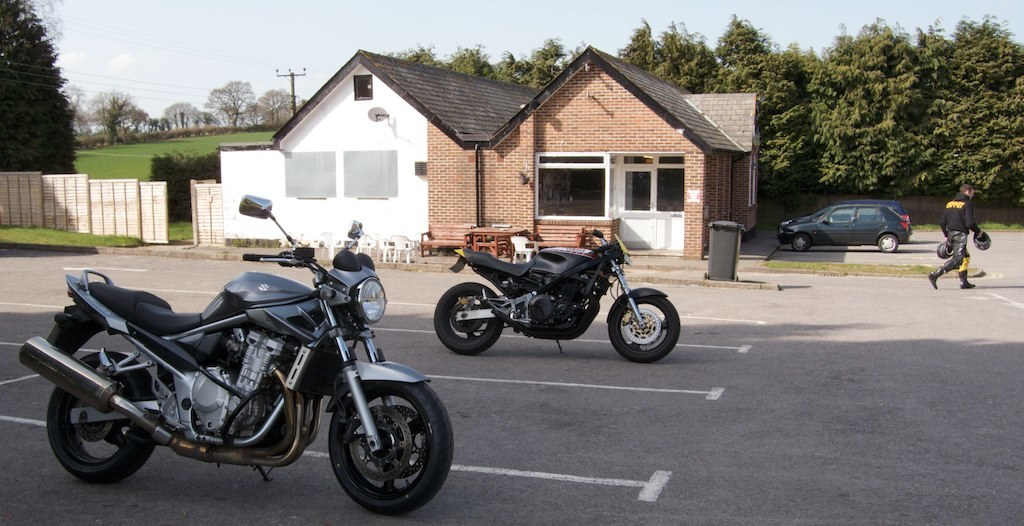mobil: (769, 201, 913, 256)
motor: (53, 259, 452, 515), (438, 236, 688, 372)
